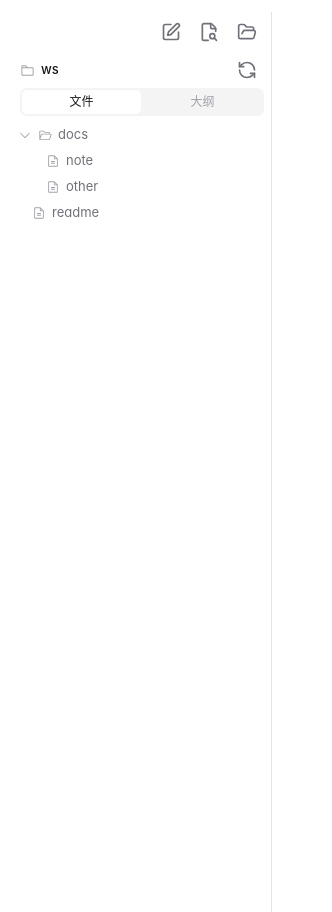
Test: FileTree › shows a tooltip with the button name on hover
Hover over the button named "新建文件".
mouse_move(171, 32)  # box [154,15,188,49]
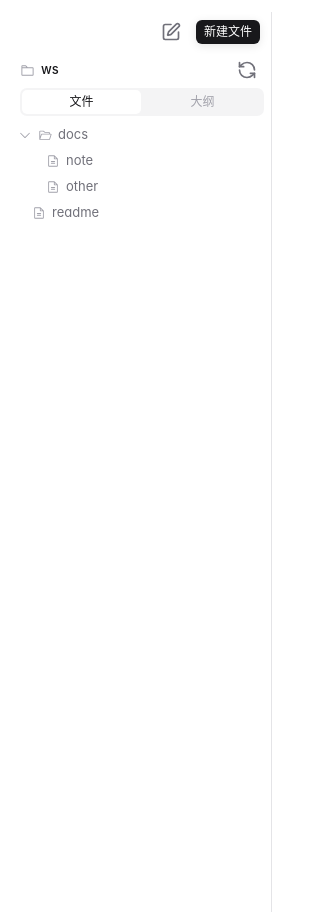
expect the text "新建文件" is shown: met, box [196,20,260,44]
Move the pointer off the button named "新建文件", box [154,15,188,49]
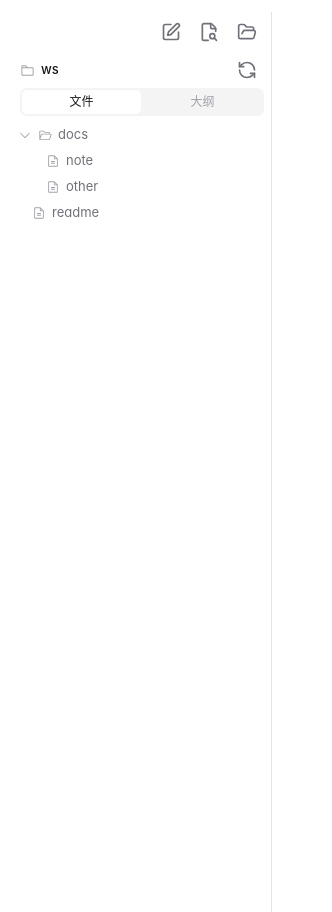
expect the text "新建文件" is gone: met
